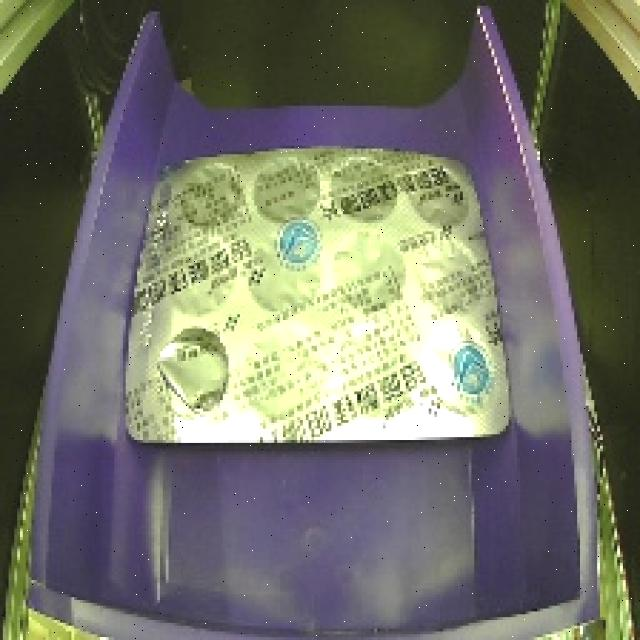med_plate: (97, 139, 522, 475)
